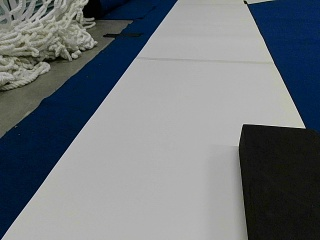block: (239, 124, 318, 238)
